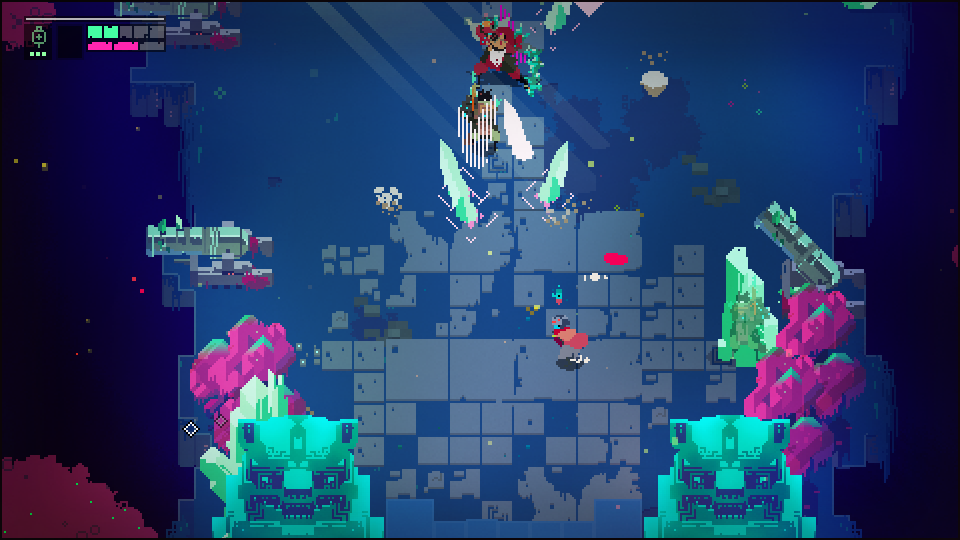hanged_crys: (437, 136, 480, 220), (500, 100, 535, 163), (538, 139, 570, 203)
hanged_man: (463, 17, 543, 98)
player: (550, 319, 585, 361)
